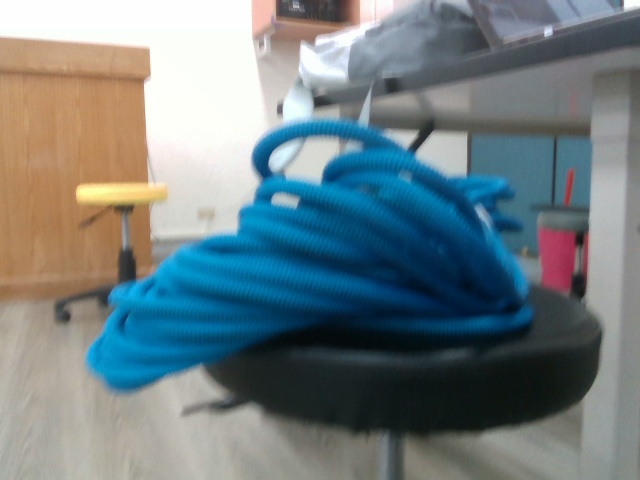rope: (82, 115, 540, 392)
